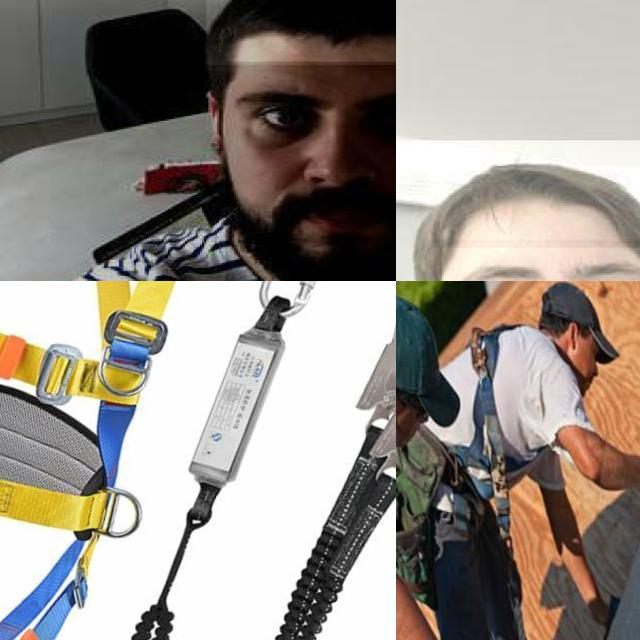Harness: (0, 281, 175, 517), (453, 325, 528, 540), (0, 527, 97, 640)
No_Ear-Protection: (194, 81, 240, 156)
No_Glasses: (229, 74, 332, 161), (443, 251, 640, 281)
face_nomask: (225, 61, 396, 281)
head_nohelmet: (425, 166, 640, 239), (206, 0, 396, 65)
person: (0, 0, 396, 281), (396, 140, 640, 281)
